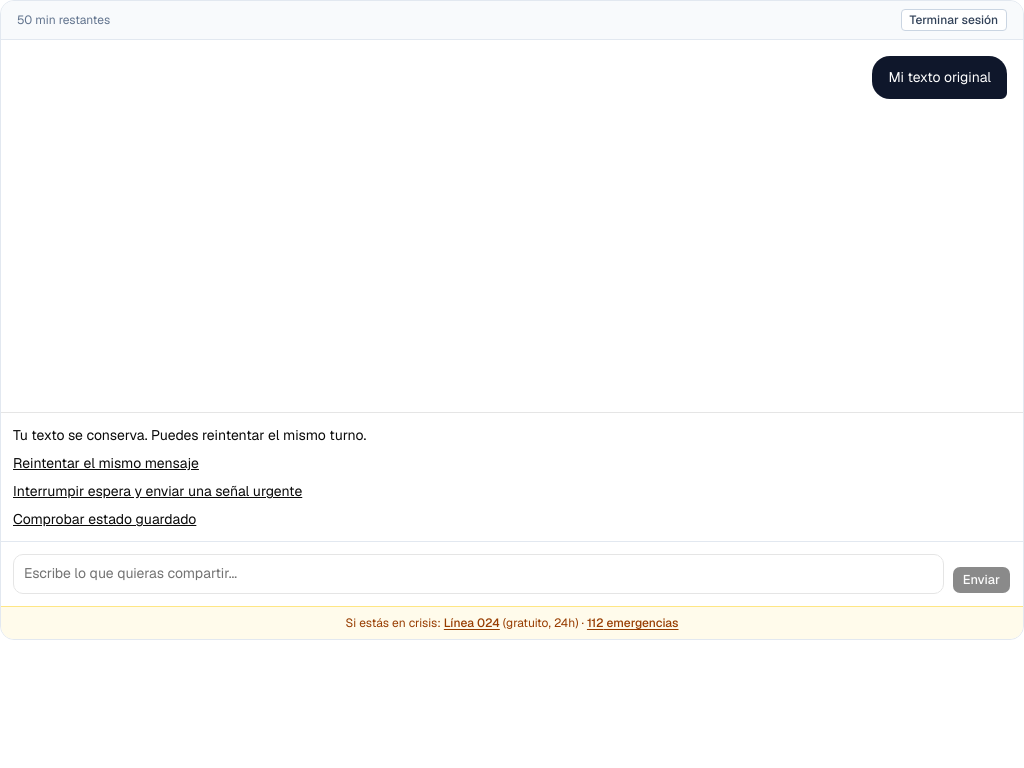
Test: rehydrates a failed turn and retries the same request and text without duplicating it
What coordinates should you click on to do the following:
click the button "Reintentar el mismo mensaje"
I would click on:
 (106, 463)
Its box is 13,453 -> 199,473.
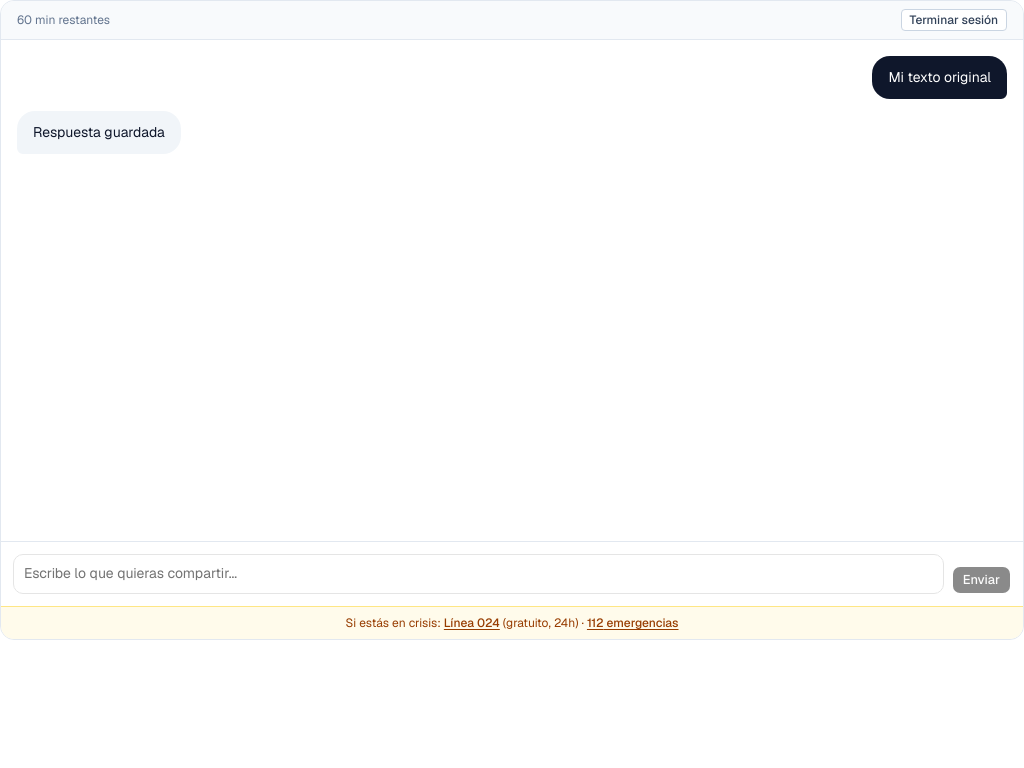
expect the text "Mi texto original" is shown once: met, box 888,68 -> 991,86
expect the text "Respuesta guardada" is shown: met, box 33,123 -> 165,141
